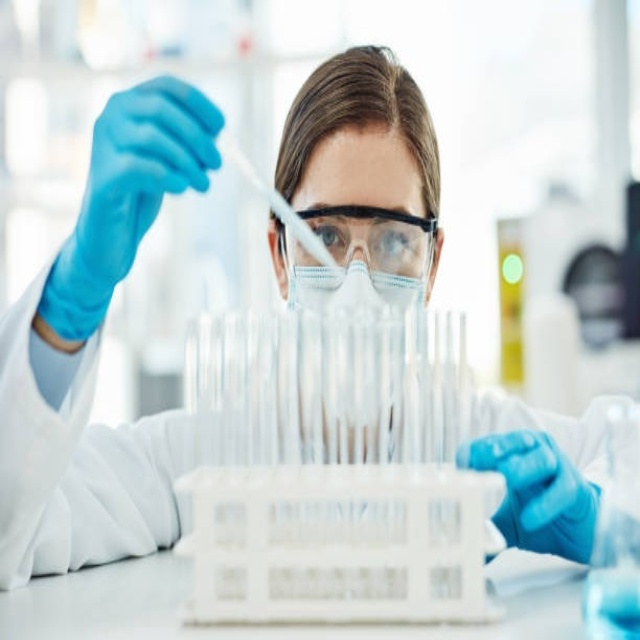Gafas: (278, 209, 439, 312)
Guantes: (38, 70, 227, 344), (457, 426, 602, 566)
Mascara: (284, 256, 430, 400)
